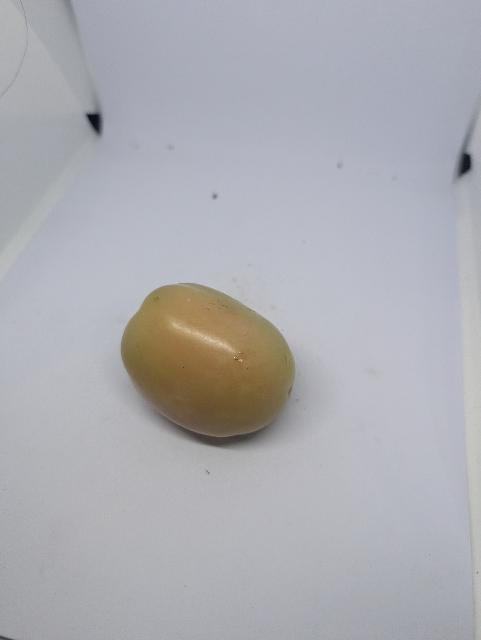turning: (102, 278, 317, 444)
